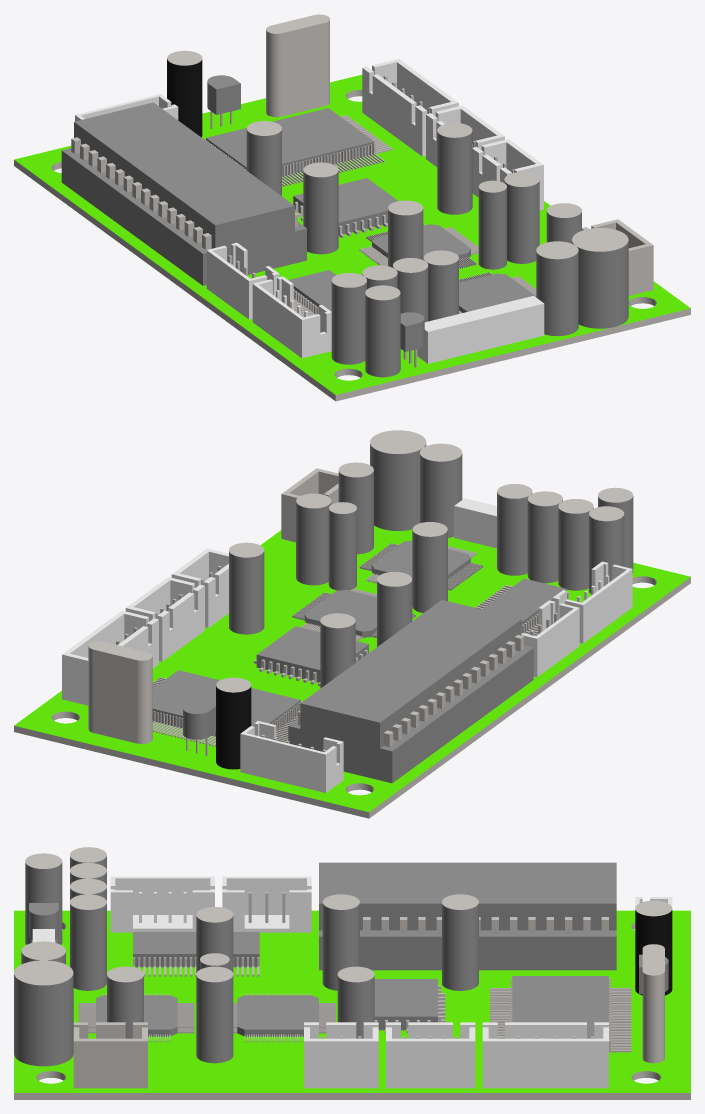
File: uydu2.glb
3 renders of one model, top to bottom at view 1: azimuth 30°, elevation 25°; view 2: azimuth 150°, elevation 25°; view 3: azimuth 270°, elevation 25°, orthographic. The views are drawn at different scales.
Parts seen in each view (by area): view 1: Part4 (×36); view 2: Part4 (×36); view 3: Part4 (×41).
Boxes of the visible parts, x1,y1,x2,y2 form: Part4 (×36): [14, 14, 690, 401]; Part4 (×36): [14, 430, 690, 818]; Part4 (×41): [14, 847, 690, 1099].
Size of the model in its own units: 0.058 by 0.016 by 0.091.
